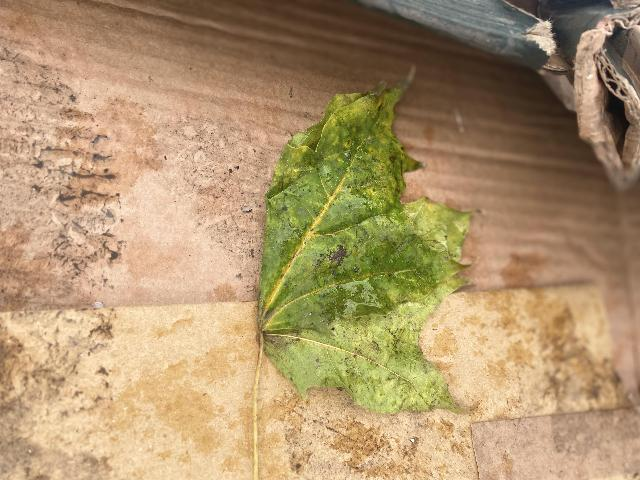Organik: (240, 71, 489, 427)
